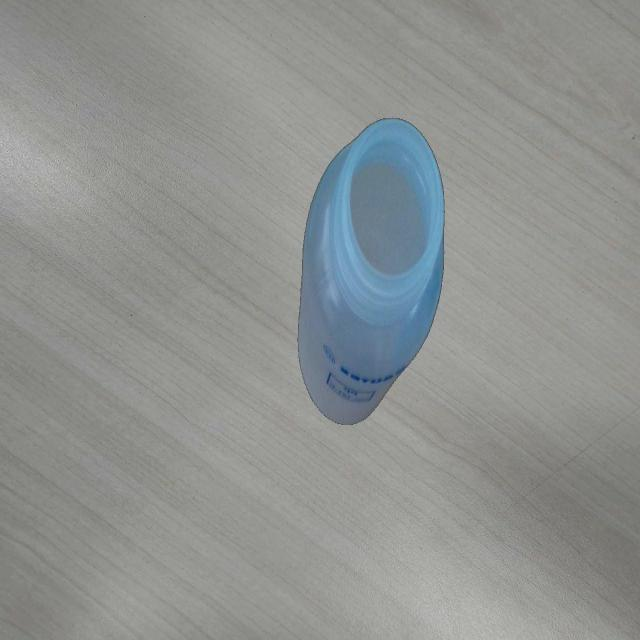bottle: (297, 110, 445, 427)
